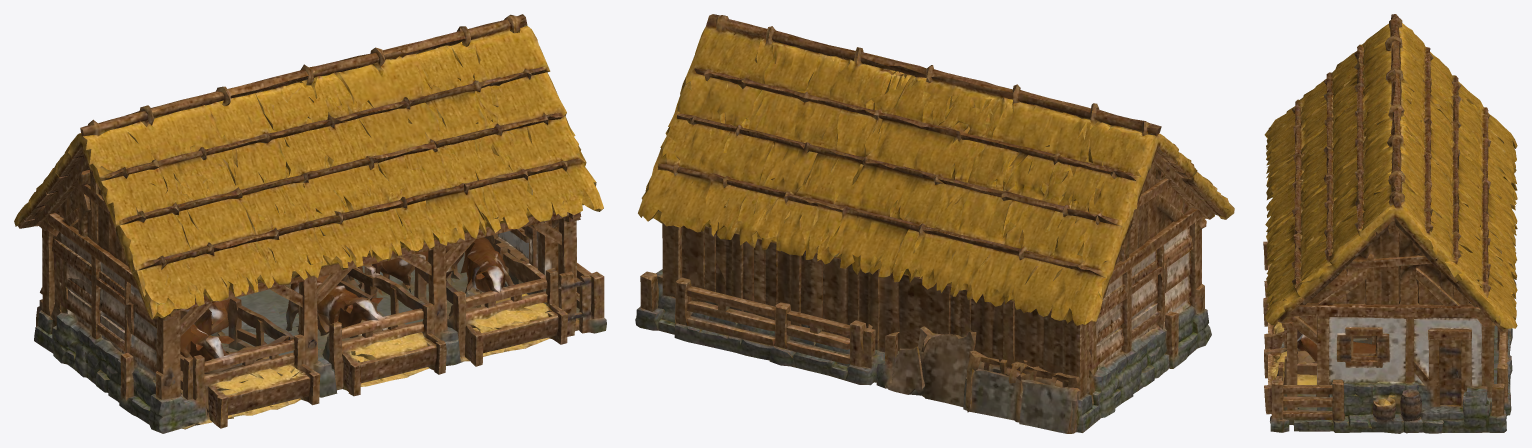
The model's file is cattle_barn_lite.glb.
3 renders of one model, left to right at view 1: azimuth 30°, elevation 25°; view 2: azimuth 150°, elevation 25°; view 3: azimuth 270°, elevation 25°, orthographic. The views are drawn at different scales.
Parts seen in each view (by area): view 1: geometry_0; view 2: geometry_0; view 3: geometry_0.
Part boxes in pixels (left/top/right/bottom): geometry_0: left=14, top=14, right=606, bottom=433; geometry_0: left=635, top=14, right=1234, bottom=433; geometry_0: left=1263, top=14, right=1517, bottom=433.
Size of the model in its own units: 1.9 by 1.06 by 1.05.
1 material, 1 textured.
